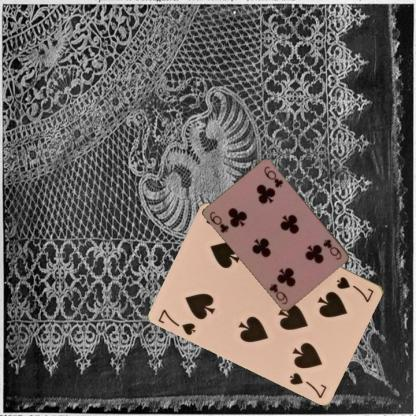6c: (321, 236, 344, 261), (207, 209, 230, 234)
7s: (156, 306, 198, 337), (334, 274, 376, 304)
